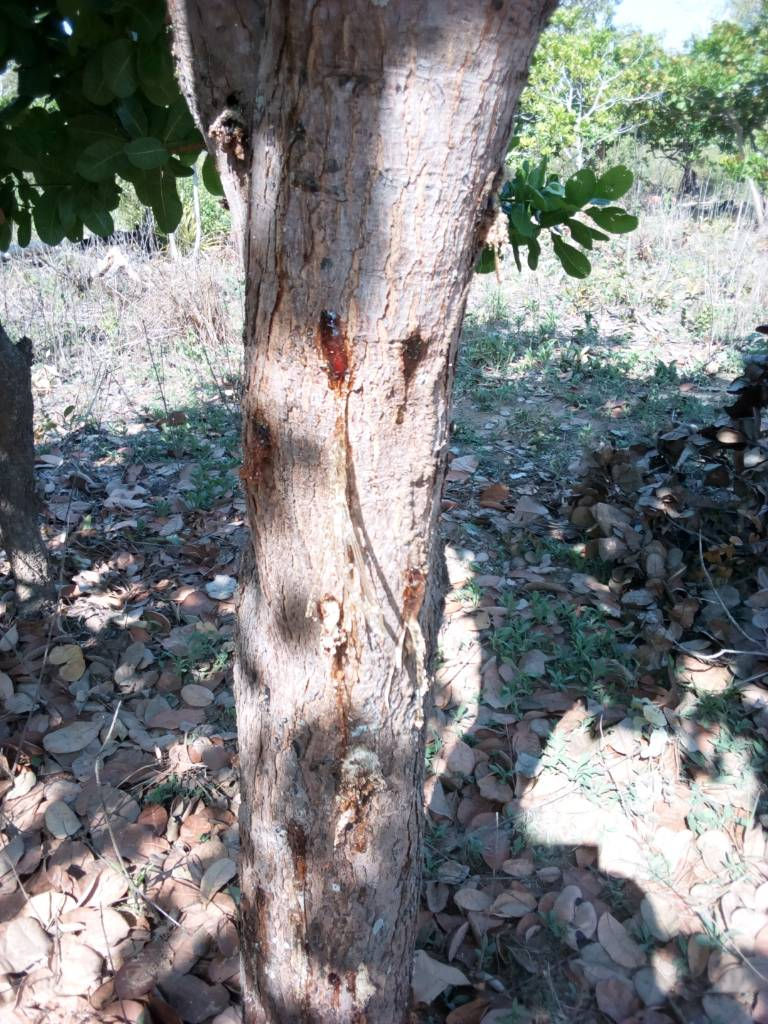Apate terebrans: (398, 311, 493, 405), (289, 304, 372, 379)
